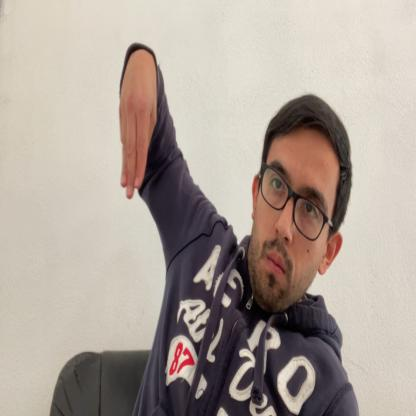M: (120, 50, 158, 198)
